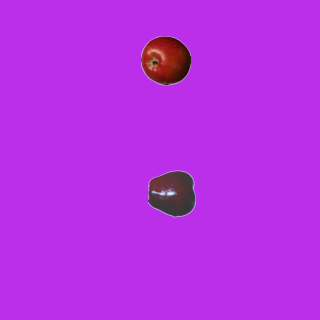Apple Braeburn: (140, 35, 190, 85)
Apple Red Delicious: (147, 168, 197, 218)
